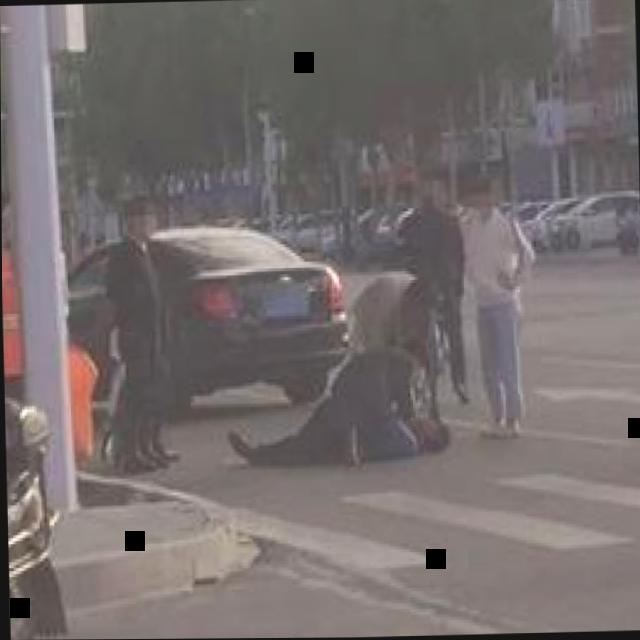Fall-Detected: (226, 386, 457, 470)
